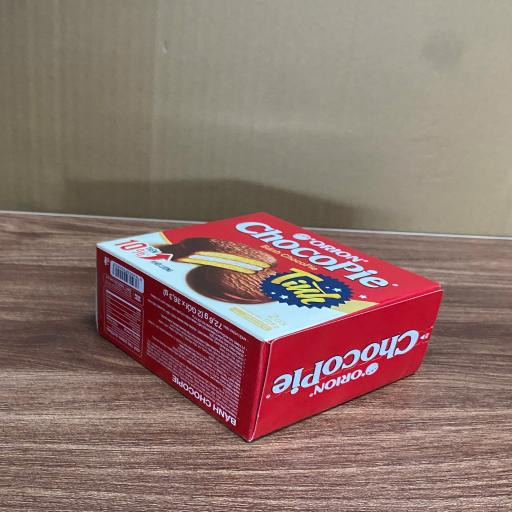chocopie: (95, 212, 440, 442)
